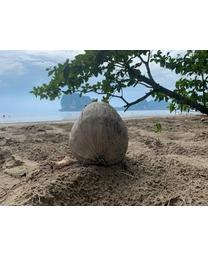coconut: (72, 94, 130, 165)
